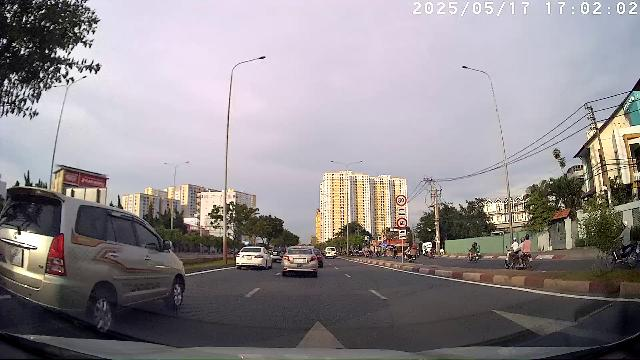127-toc-do-toi-da-60: (397, 218, 408, 228)
127-toc-do-toi-da-80: (396, 195, 406, 206)
